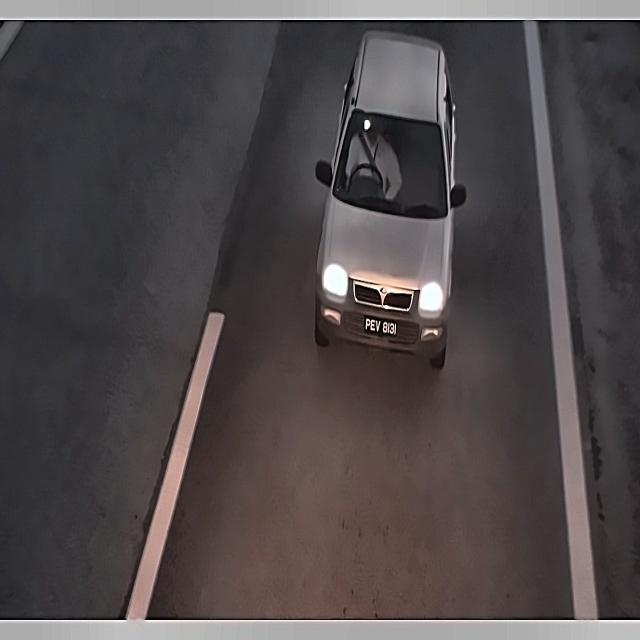car: (362, 311, 402, 342)
